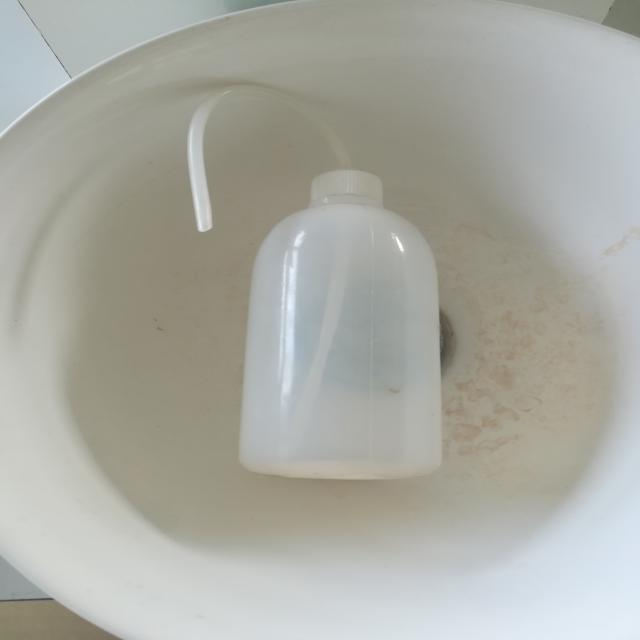Wash_Bottle: (136, 53, 511, 504)
